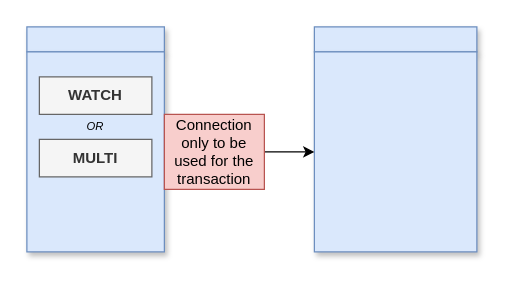
Image size: 506x283. Some labels were removed from this diagram. The centre of each missing label's shape, as x and y in pixels:
Redis: the point at 396,41
Server: the point at 96,41
